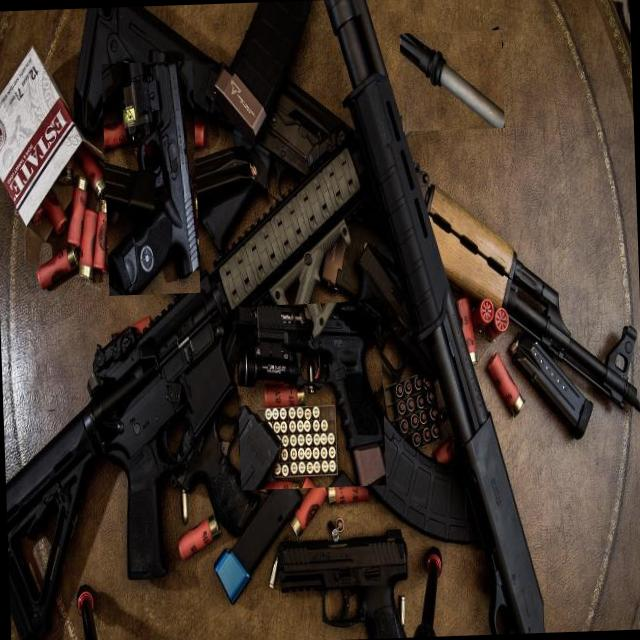Gun: (6, 148, 360, 640), (326, 0, 544, 633), (427, 186, 640, 408), (235, 305, 384, 486), (108, 61, 199, 295), (75, 6, 220, 129), (275, 530, 408, 639), (399, 34, 504, 128), (261, 83, 348, 172), (213, 193, 244, 242)
